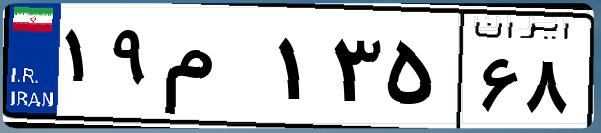1: (270, 28, 330, 110), (57, 26, 110, 100)
3: (330, 28, 385, 110)
5: (385, 28, 445, 110)
6: (475, 38, 525, 113)
8: (525, 38, 570, 115)
9: (110, 28, 158, 98)
م: (158, 20, 270, 120)
